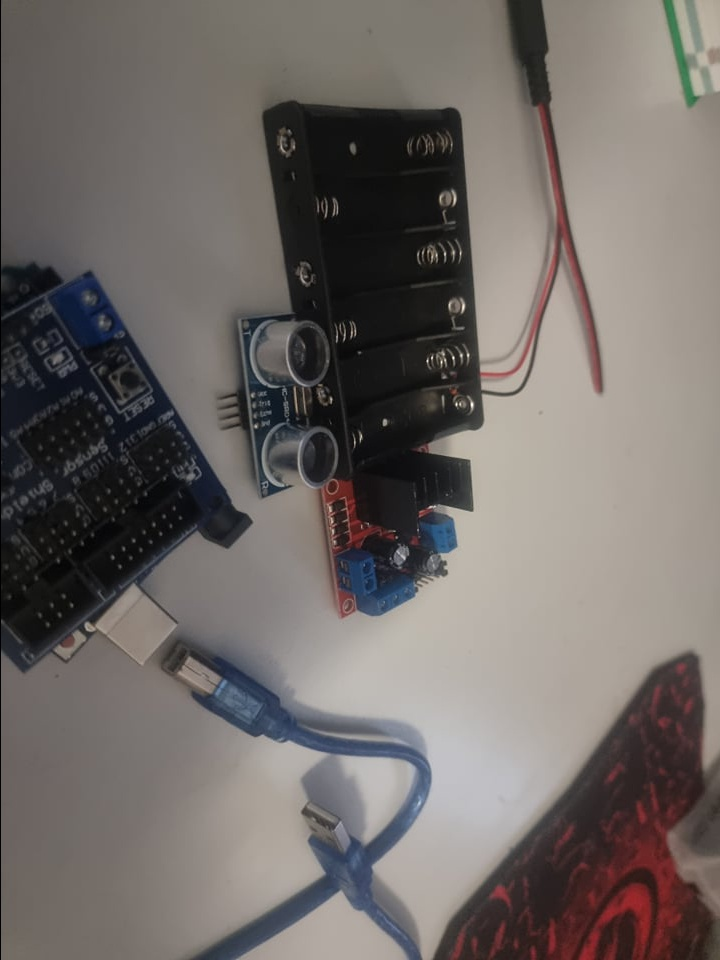5V EXPANSION: (0, 266, 188, 593)
BATTERY BOX: (274, 95, 484, 449)
MOTOR: (320, 453, 476, 631)
SENSOR: (239, 310, 331, 499)
